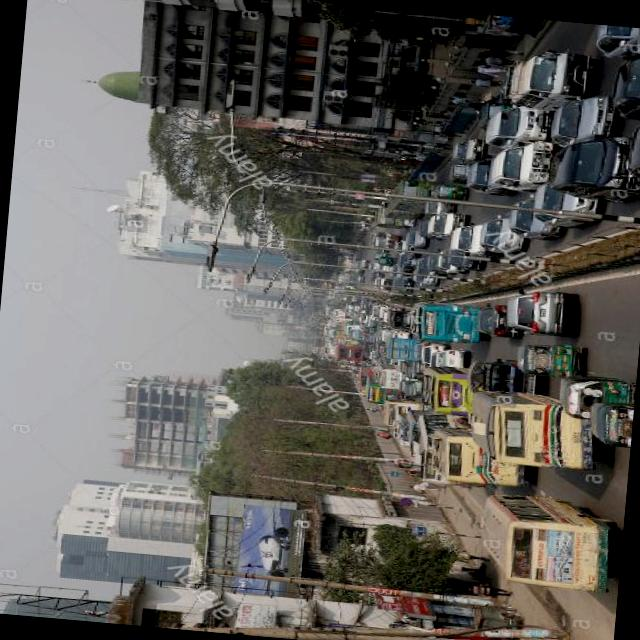bus: (469, 494, 612, 594), (465, 386, 594, 472), (427, 426, 527, 489), (402, 412, 465, 486), (403, 300, 484, 344), (416, 365, 468, 416), (386, 178, 434, 214), (377, 398, 415, 430), (394, 407, 418, 456), (378, 192, 419, 220), (359, 374, 392, 404), (367, 206, 405, 229), (370, 362, 394, 390), (331, 343, 364, 362), (387, 412, 404, 447), (366, 232, 398, 250), (353, 364, 368, 385), (340, 260, 360, 274), (344, 327, 357, 340), (332, 274, 347, 285), (320, 340, 329, 354), (328, 310, 340, 318), (323, 328, 332, 338)
car: (526, 178, 602, 230), (502, 288, 578, 339), (544, 90, 606, 150), (487, 134, 549, 194), (480, 102, 550, 154), (504, 191, 560, 242), (604, 54, 640, 121), (460, 152, 510, 196), (474, 213, 525, 254), (587, 23, 634, 59), (470, 302, 514, 339), (620, 114, 640, 184), (474, 91, 501, 132), (448, 136, 481, 163), (431, 248, 463, 274), (442, 250, 482, 270), (432, 348, 465, 369), (417, 342, 445, 365), (400, 226, 422, 248), (388, 274, 410, 292), (408, 270, 434, 284), (410, 339, 424, 360), (391, 238, 408, 255), (389, 328, 410, 338), (362, 314, 371, 328), (366, 272, 378, 282), (366, 351, 372, 358)
motorcycle: (554, 373, 628, 422), (511, 340, 582, 378), (583, 399, 625, 446), (476, 102, 504, 127), (430, 184, 466, 202), (444, 162, 464, 182), (407, 361, 420, 375), (374, 256, 391, 266), (404, 382, 414, 398), (375, 256, 392, 265), (369, 251, 385, 260), (371, 252, 386, 260), (392, 380, 398, 394)
truck: (542, 129, 640, 204), (498, 46, 596, 115), (466, 354, 544, 394), (444, 220, 492, 260), (423, 210, 465, 240), (382, 336, 416, 362), (384, 310, 406, 328), (372, 276, 388, 290), (368, 304, 382, 320), (350, 258, 363, 268), (378, 328, 388, 341), (346, 275, 360, 283), (365, 263, 378, 271), (322, 283, 329, 289)
